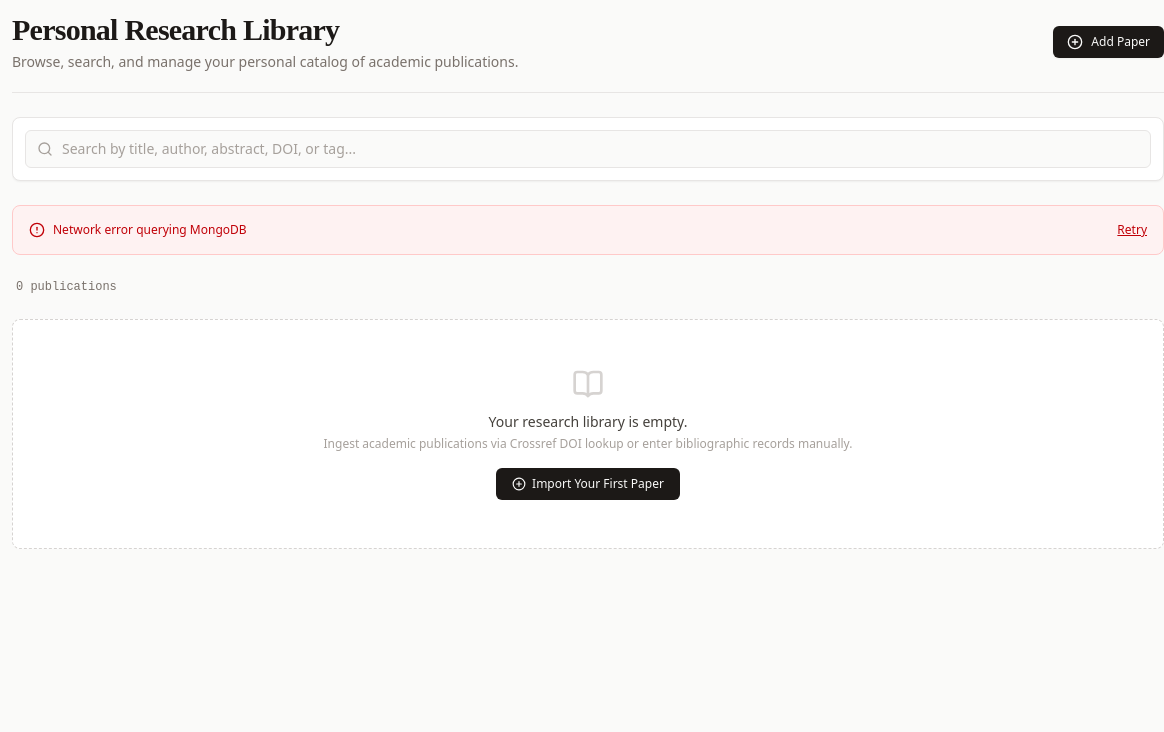
Scenario: LibraryPage (Catalog & Search) › displays error banner with retry option when paper fetching fails
Expected: the text "Network error querying MongoDB" is shown, [53,222,247,238]
Step 1. Click the button "Retry" → {"x": 1132, "y": 230}, box [1117,222,1147,238]
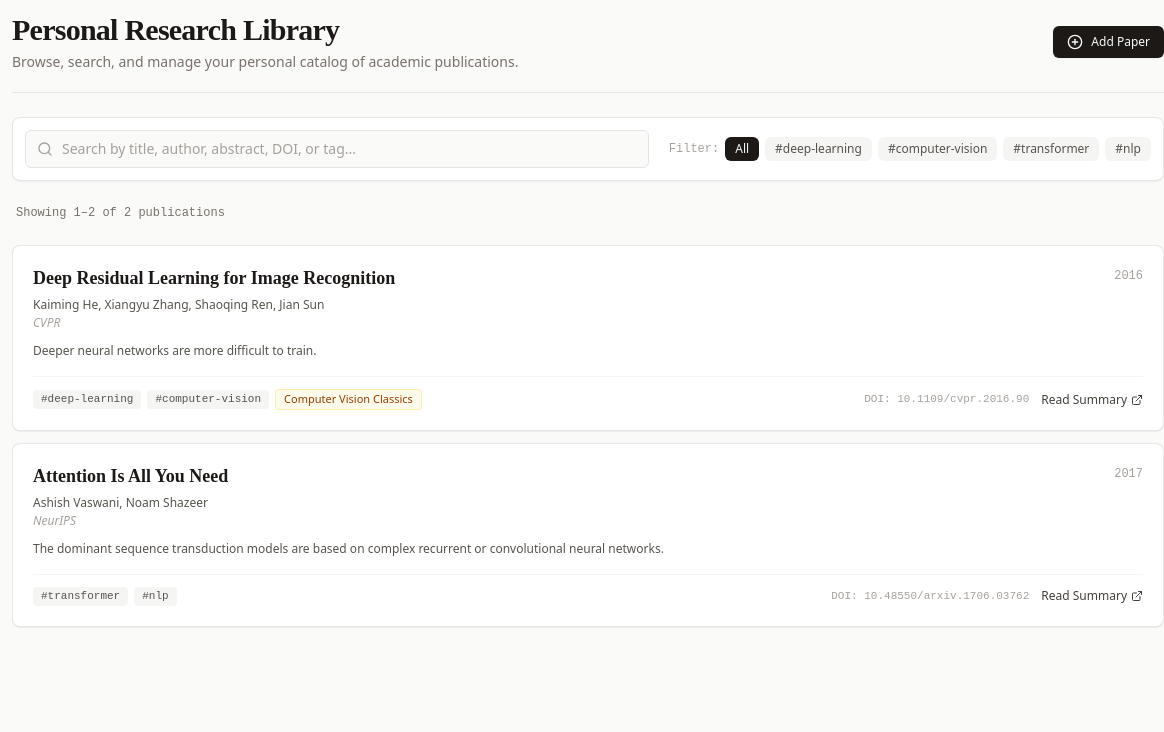
Now the link "Deep Residual Learning for Image Recognition" is shown, box [33,268,395,288]
